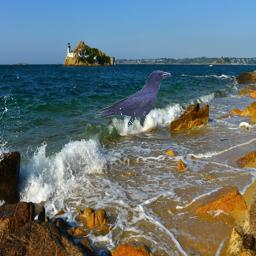Crow: (94, 70, 171, 132)
